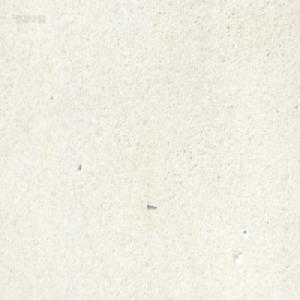Nail: (146, 202, 157, 210)
